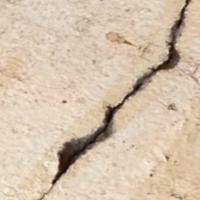crack: (30, 0, 199, 199)
